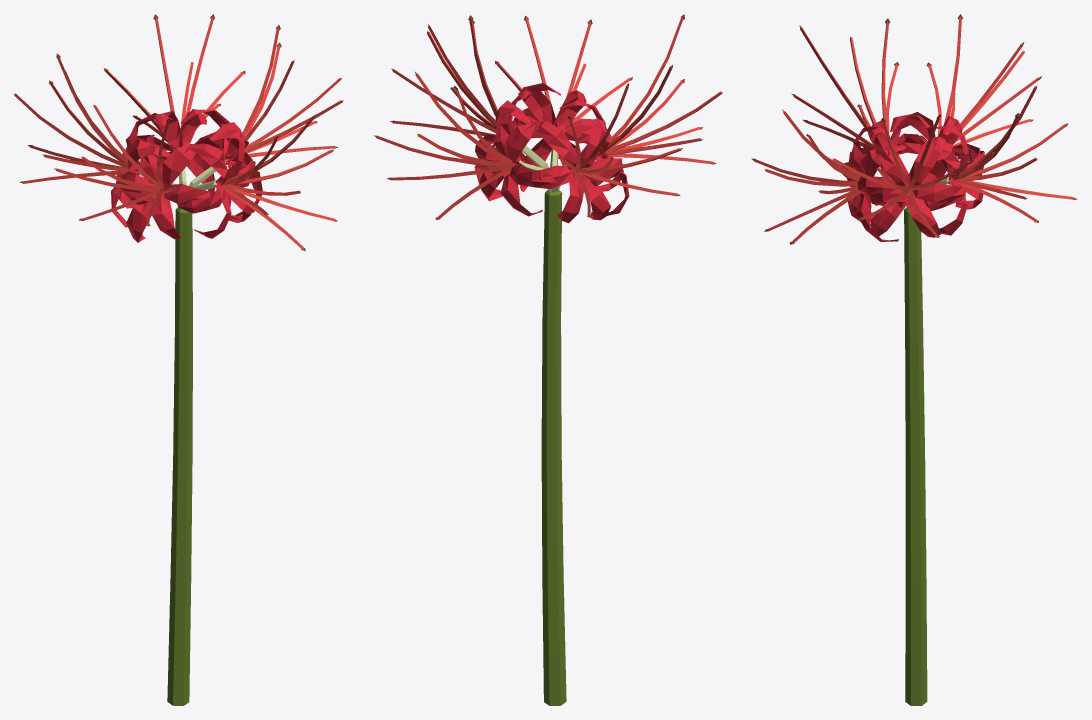
Rendered from spider_lily.glb.
The picture shows the model from 3 angles, left to right: view 1: azimuth 30°, elevation 25°; view 2: azimuth 150°, elevation 25°; view 3: azimuth 270°, elevation 25°; orthographic projection. The views are drawn at different scales.
Parts seen in each view (by area): view 1: SpiderLily; view 2: SpiderLily; view 3: SpiderLily.
Part boxes in pixels (bbox=[...]): SpiderLily: bbox=[14, 14, 343, 705]; SpiderLily: bbox=[374, 14, 722, 705]; SpiderLily: bbox=[751, 14, 1077, 705].
Size of the model in its own units: 0.2591 by 0.5475 by 0.2518.
